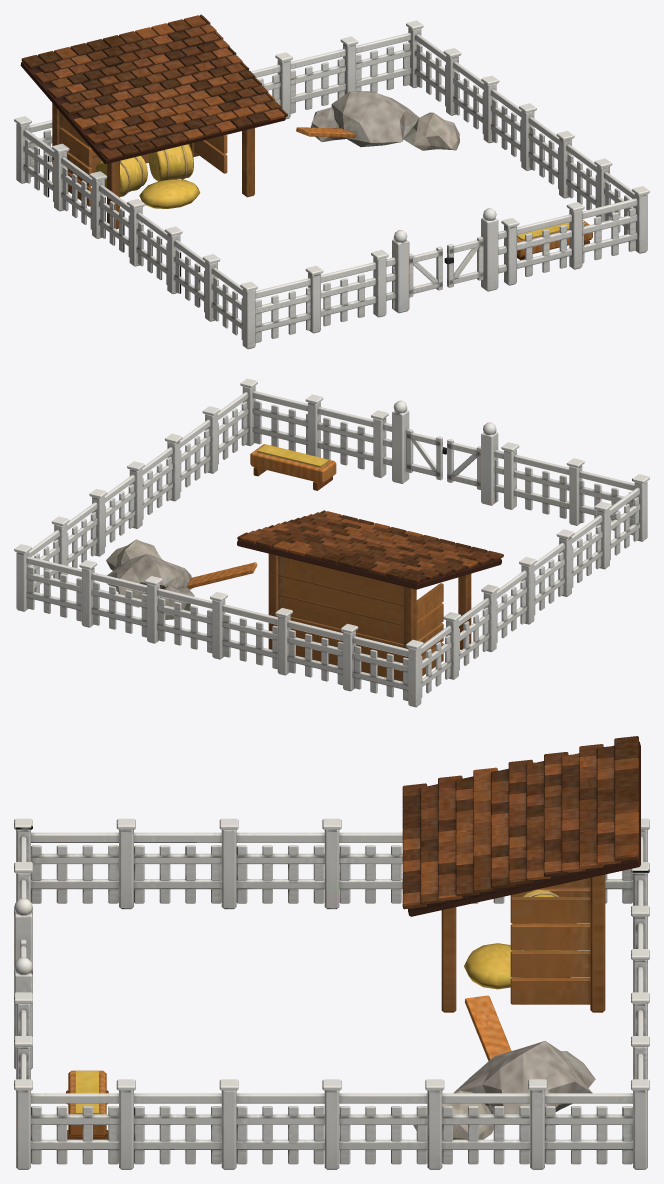
File: saanen_yard.glb
The picture shows the model from 3 angles, top to bottom: view 1: azimuth 30°, elevation 25°; view 2: azimuth 150°, elevation 25°; view 3: azimuth 270°, elevation 25°; orthographic projection. The views are drawn at different scales.
Visible parts, largest first — view 1: saanen_yard, gate1, gate0; view 2: saanen_yard, gate1, gate0; view 3: saanen_yard.
Part boxes in pixels (box(x1,y1,x2,y2)): saanen_yard: box(14, 14, 649, 349); gate1: box(444, 236, 483, 287); gate0: box(409, 246, 442, 297); saanen_yard: box(14, 378, 649, 707); gate1: box(406, 429, 446, 480); gate0: box(447, 439, 480, 489); saanen_yard: box(14, 736, 649, 1169).
Size of the model in its own units: 2.99 by 0.9346 by 2.99.
1 material, 1 textured.
